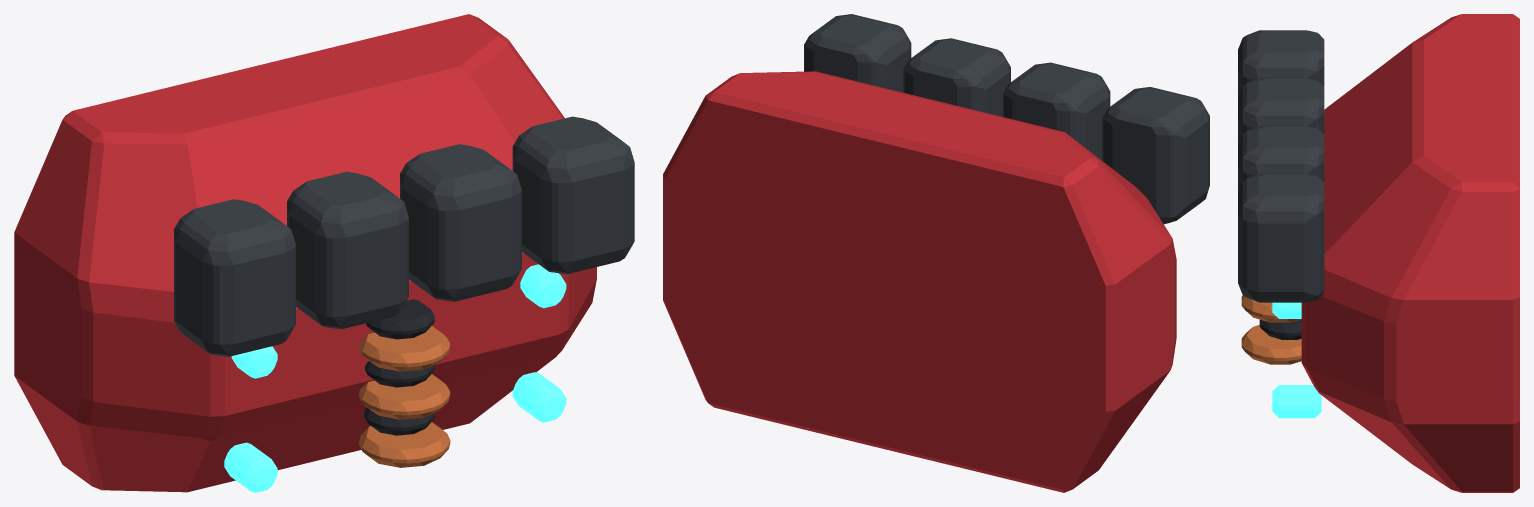
The model's file is HandFront_Set06_Voltaic.fbx.
3 views of the same model, side by side, from view 1: azimuth 30°, elevation 25°; view 2: azimuth 150°, elevation 25°; view 3: azimuth 270°, elevation 25° (orthographic). The views are drawn at different scales.
Parts seen in each view (by area): view 1: HandFront_Set06_Voltaic; view 2: HandFront_Set06_Voltaic; view 3: HandFront_Set06_Voltaic.
Boxes of the visible parts, left/top/right/bottom form: HandFront_Set06_Voltaic: left=14, top=14, right=634, bottom=492; HandFront_Set06_Voltaic: left=663, top=14, right=1209, bottom=492; HandFront_Set06_Voltaic: left=1238, top=14, right=1519, bottom=492.
Size of the model in its own units: 0.3 by 0.2 by 0.1644.
